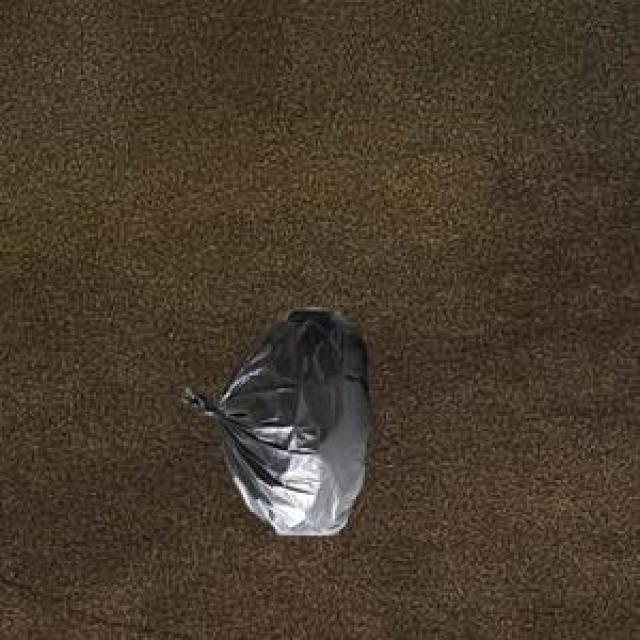waste: (184, 308, 369, 536)
